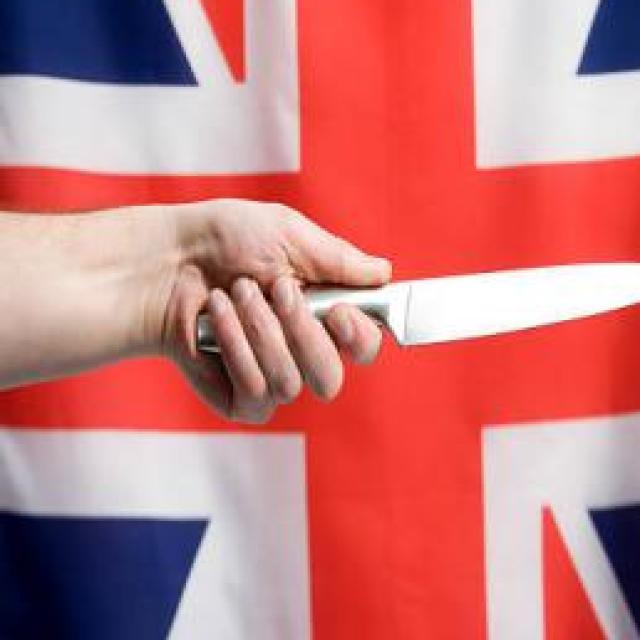knife: (196, 263, 640, 350)
